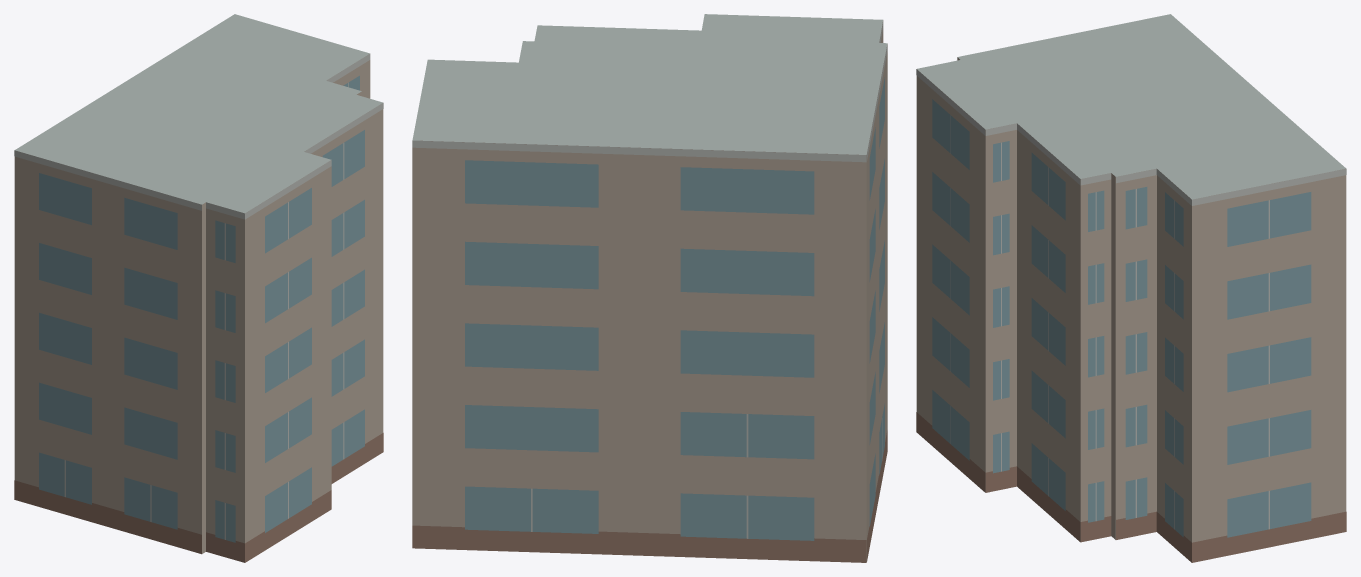
Rendered from survey-upis-32891471.glb.
The picture shows the model from 3 angles, left to right: view 1: azimuth 30°, elevation 25°; view 2: azimuth 150°, elevation 25°; view 3: azimuth 270°, elevation 25°; orthographic projection. The views are drawn at different scales.
Parts seen in each view (by area): view 1: survey-upis-32891471.tmp; view 2: survey-upis-32891471.tmp; view 3: survey-upis-32891471.tmp.
Part boxes in pixels (<box>): survey-upis-32891471.tmp: <box>14,14,383,562</box>; survey-upis-32891471.tmp: <box>412,14,887,562</box>; survey-upis-32891471.tmp: <box>916,14,1346,562</box>.
Size of the model in its own units: 15.02 by 13.7 by 14.71.
